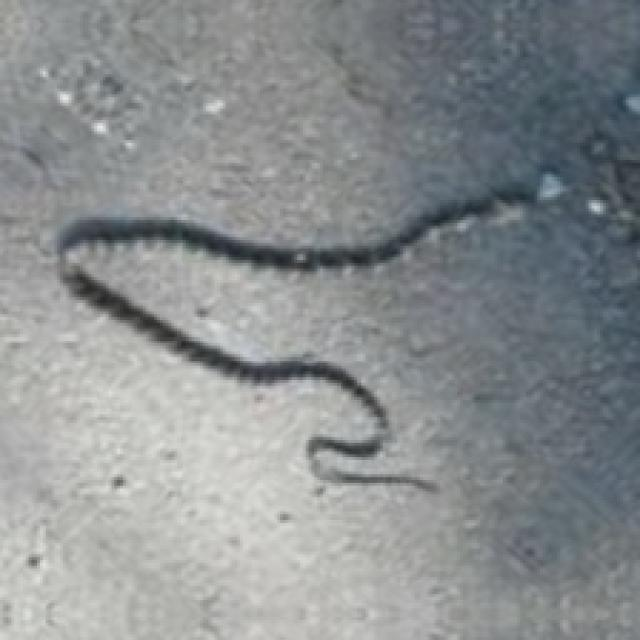king cobra: (66, 194, 637, 580), (63, 206, 531, 489)
